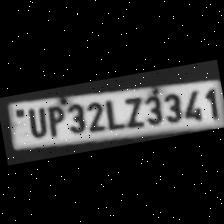1: (198, 83, 224, 122)
2: (82, 98, 106, 133)
3: (140, 90, 164, 127), (159, 87, 183, 124), (62, 99, 86, 134)
4: (176, 85, 206, 123)
L: (100, 96, 122, 130)
P: (42, 102, 66, 136)
U: (21, 102, 48, 139)
Z: (118, 92, 144, 129)
